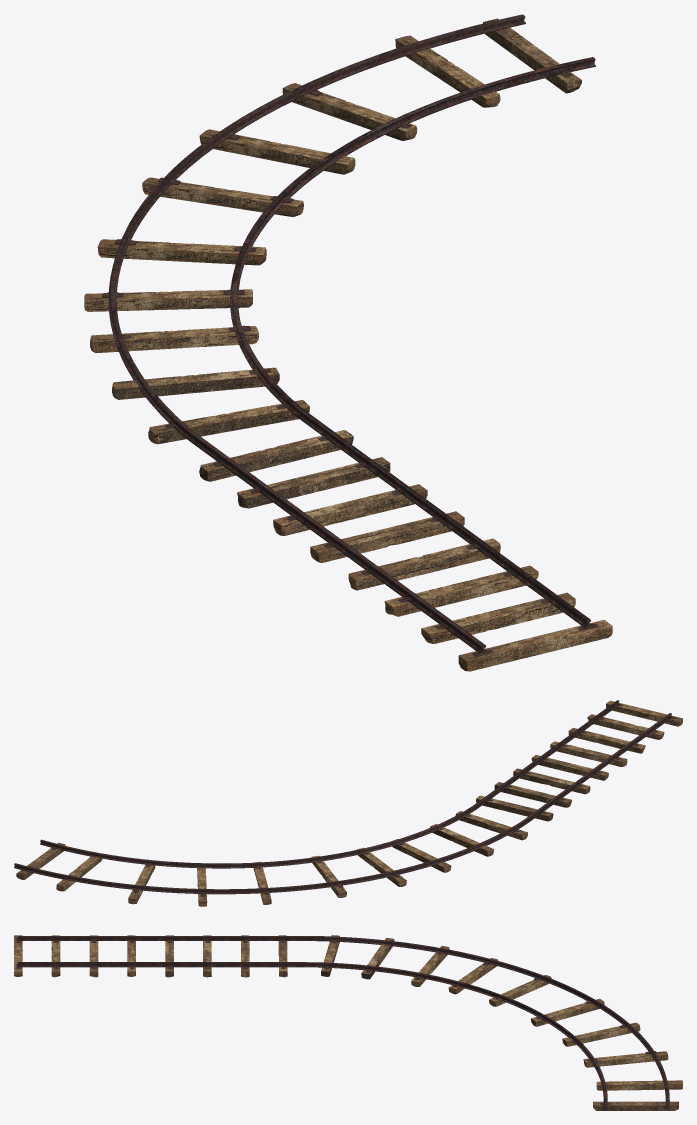
Rendered from Relsy-2.fbx.
3 views of the same model, one above another, from view 1: azimuth 30°, elevation 25°; view 2: azimuth 150°, elevation 25°; view 3: azimuth 270°, elevation 25° (orthographic). The views are drawn at different scales.
Visible parts, largest first — view 1: Cube.061_dmg; view 2: Cube.061_dmg; view 3: Cube.061_dmg.
Part boxes in pixels (<box>): Cube.061_dmg: <box>84,14,612,671</box>; Cube.061_dmg: <box>14,700,682,906</box>; Cube.061_dmg: <box>14,935,682,1110</box>.
Bounding box in the file's own units: 679 × 22.02 × 1089.
